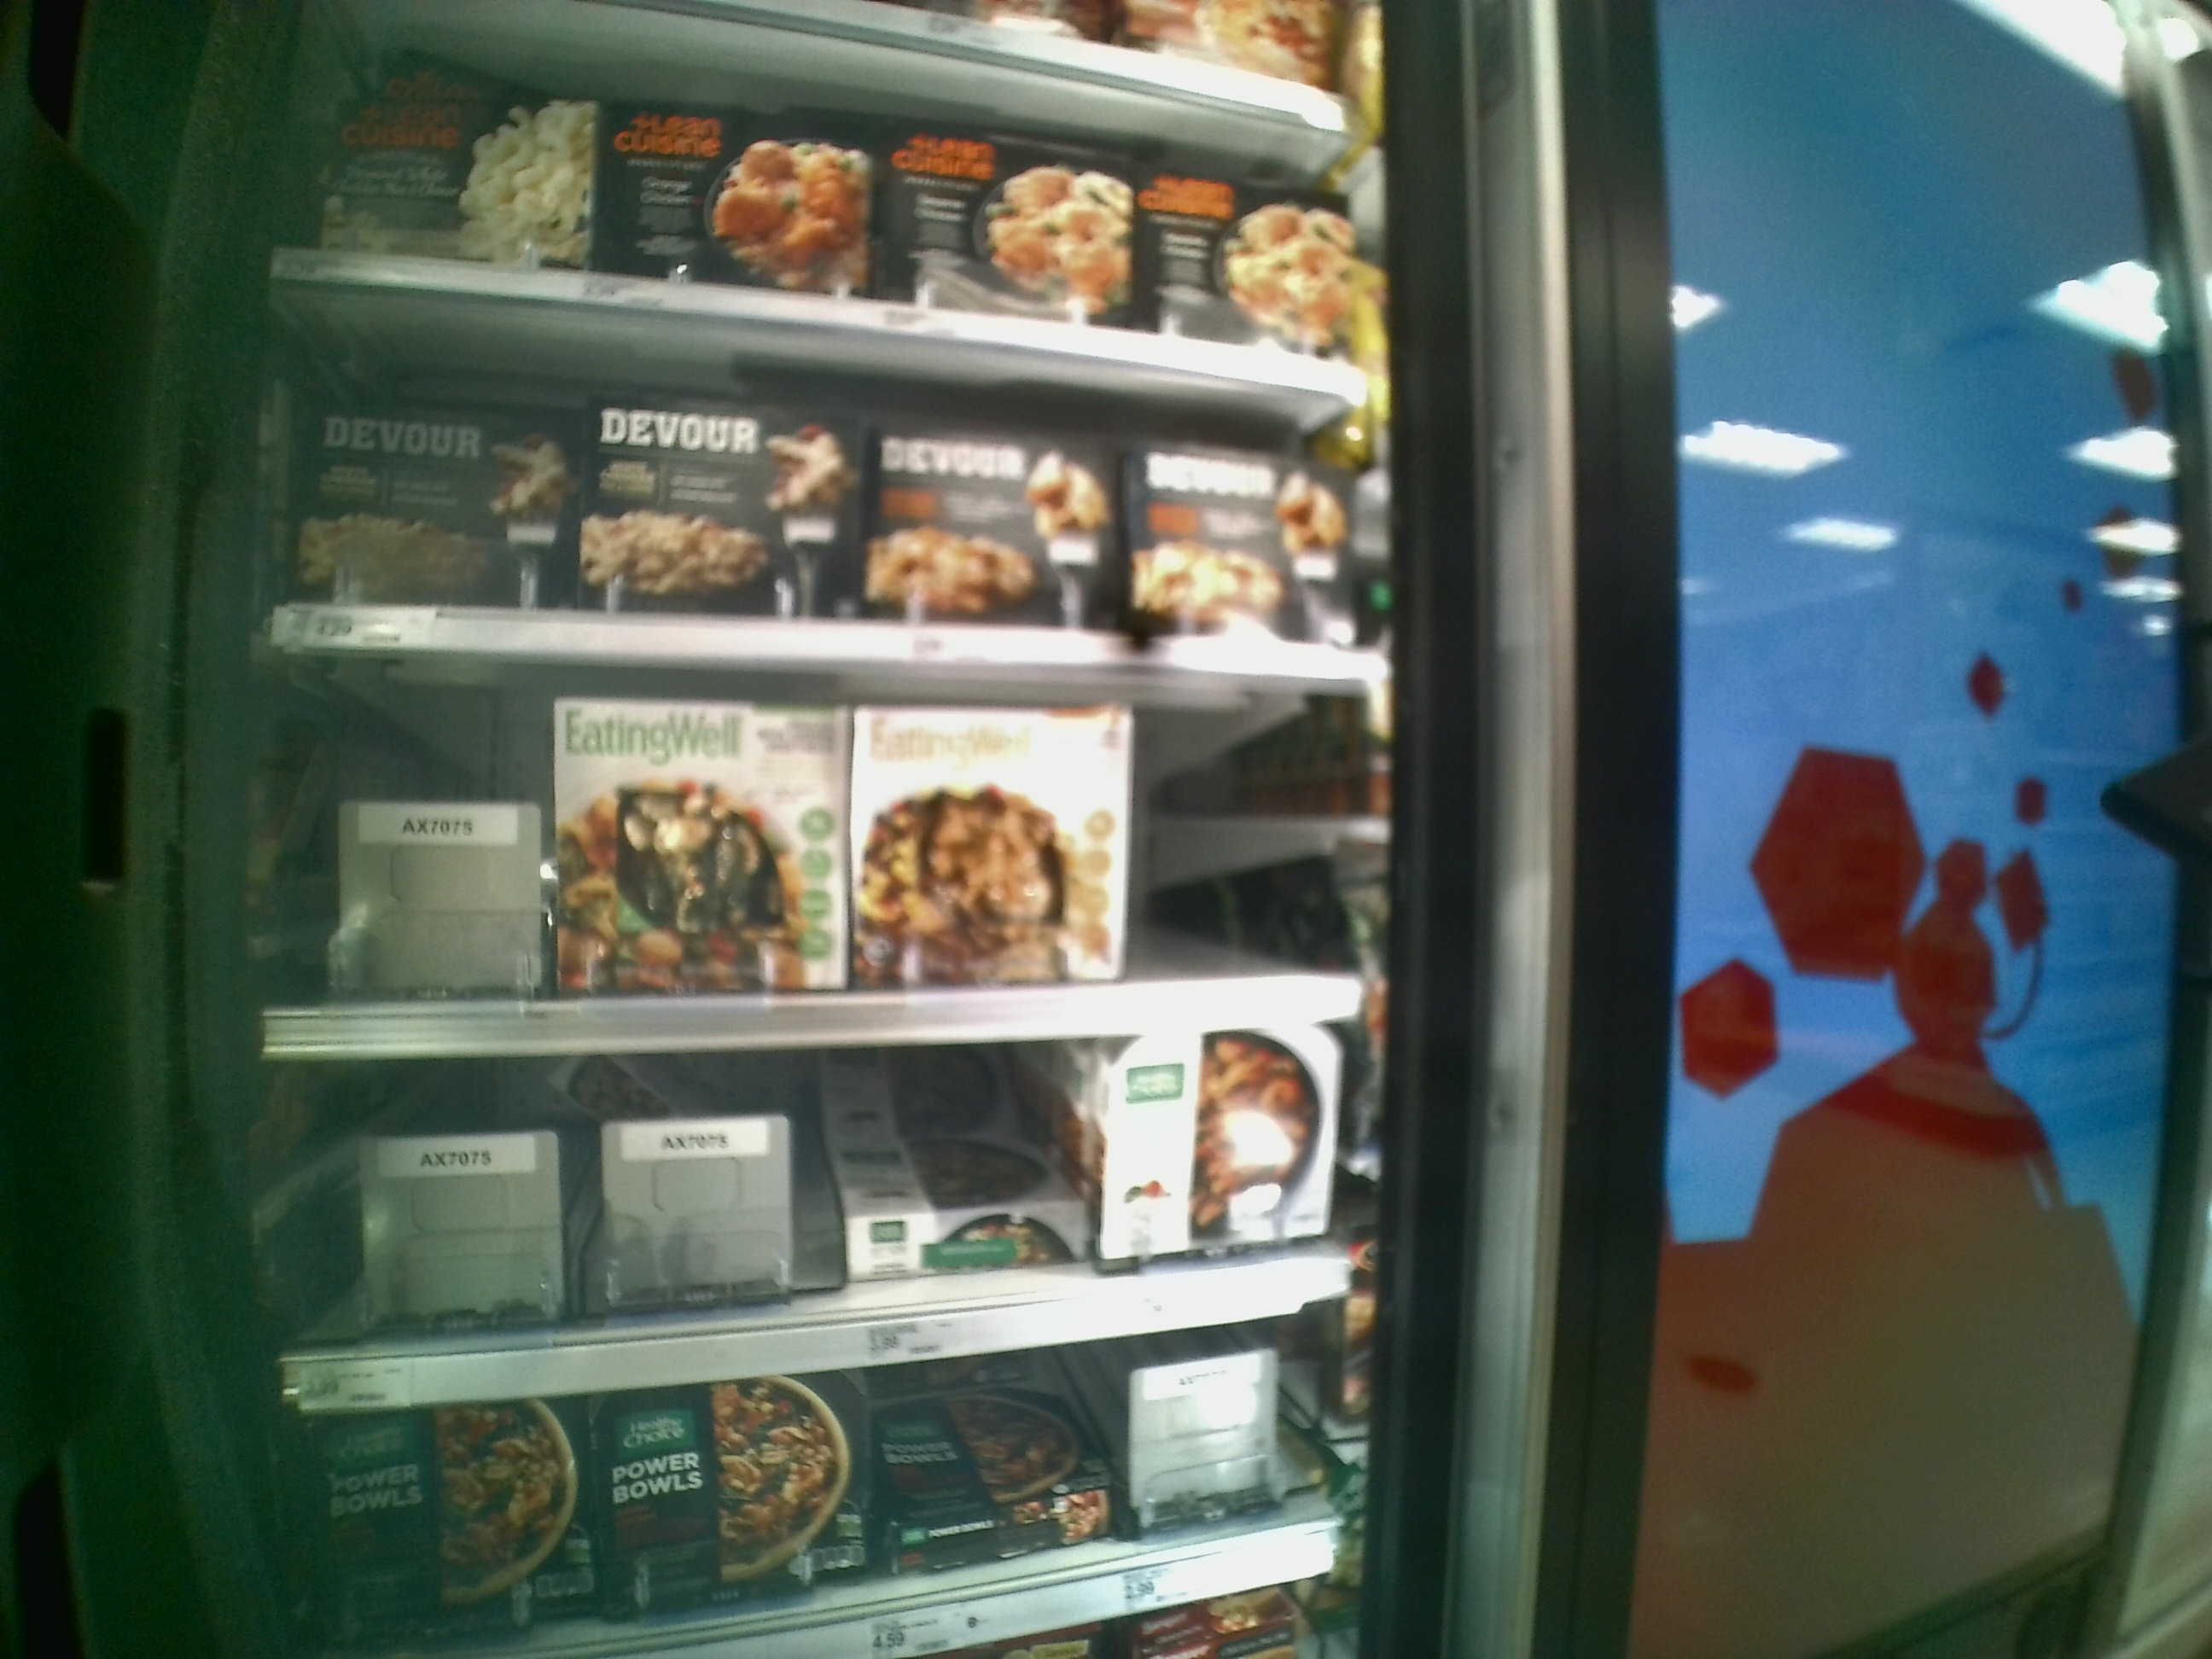shelf: (268, 636, 1383, 1058), (265, 1009, 1379, 1424), (258, 270, 1385, 671)
